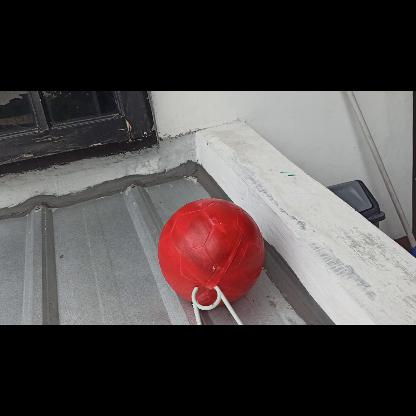red_ball: (158, 197, 264, 303)
